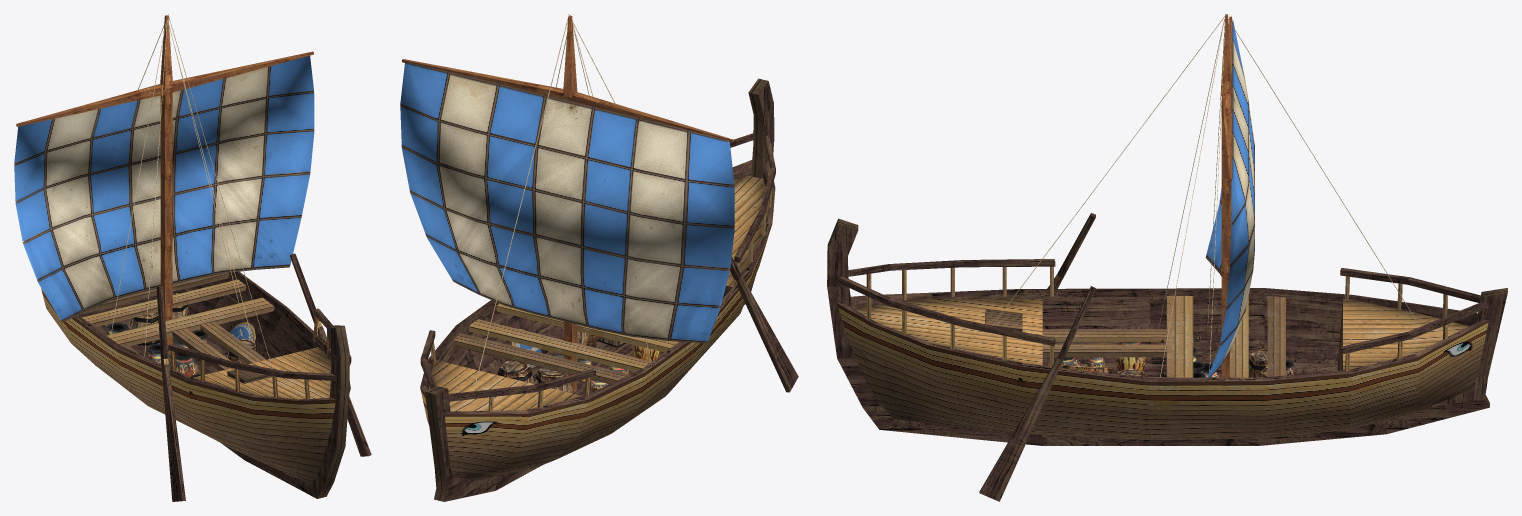
The model's file is spart_merchant_ship.glb.
The picture shows the model from 3 angles, left to right: view 1: azimuth 30°, elevation 25°; view 2: azimuth 150°, elevation 25°; view 3: azimuth 270°, elevation 25°; orthographic projection. The views are drawn at different scales.
Visible parts, largest first — view 1: spart_merchant_ship_part3, spart_merchant_ship_part0, spart_merchant_ship_part1; view 2: spart_merchant_ship_part3, spart_merchant_ship_part0, spart_merchant_ship_part1; view 3: spart_merchant_ship_part0, spart_merchant_ship_part3, spart_merchant_ship_part1.
Part boxes in pixels (box(x1,y1,x2,y2)): spart_merchant_ship_part3: box(14, 14, 314, 368); spart_merchant_ship_part0: box(41, 253, 371, 501); spart_merchant_ship_part1: box(106, 293, 257, 377); spart_merchant_ship_part3: box(400, 14, 734, 392); spart_merchant_ship_part0: box(420, 78, 798, 501); spart_merchant_ship_part1: box(497, 327, 664, 393); spart_merchant_ship_part0: box(827, 213, 1507, 501); spart_merchant_ship_part3: box(992, 14, 1417, 381); spart_merchant_ship_part1: box(1047, 342, 1293, 377).
Size of the model in its own units: 3.13 by 3.9 by 5.5.
4 materials, 4 textured.
